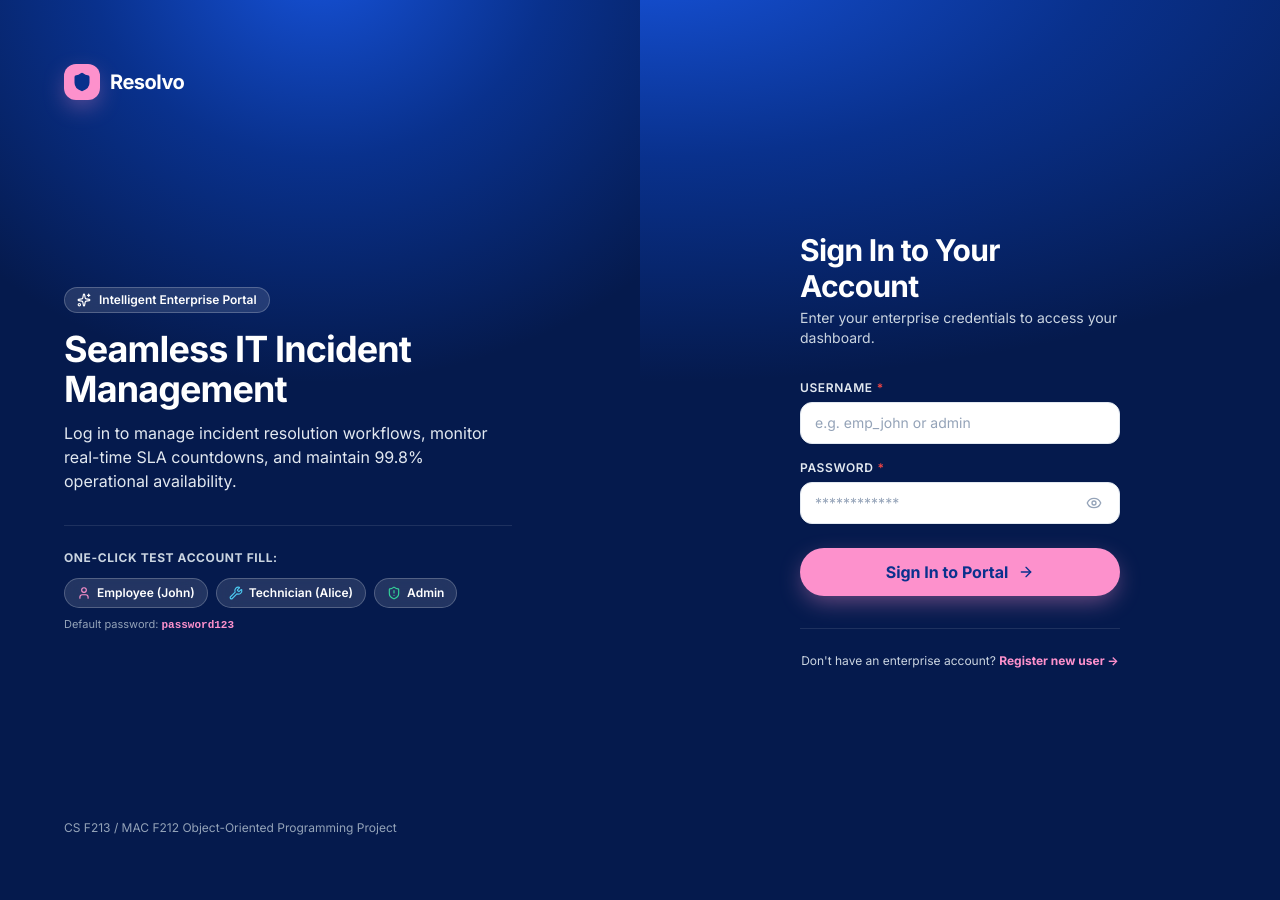
LoginPage › quick-fill button populates credentials for employee
The image size is (1280, 900).
Click the button "Employee (John)": click(136, 593) [64,578,208,608]
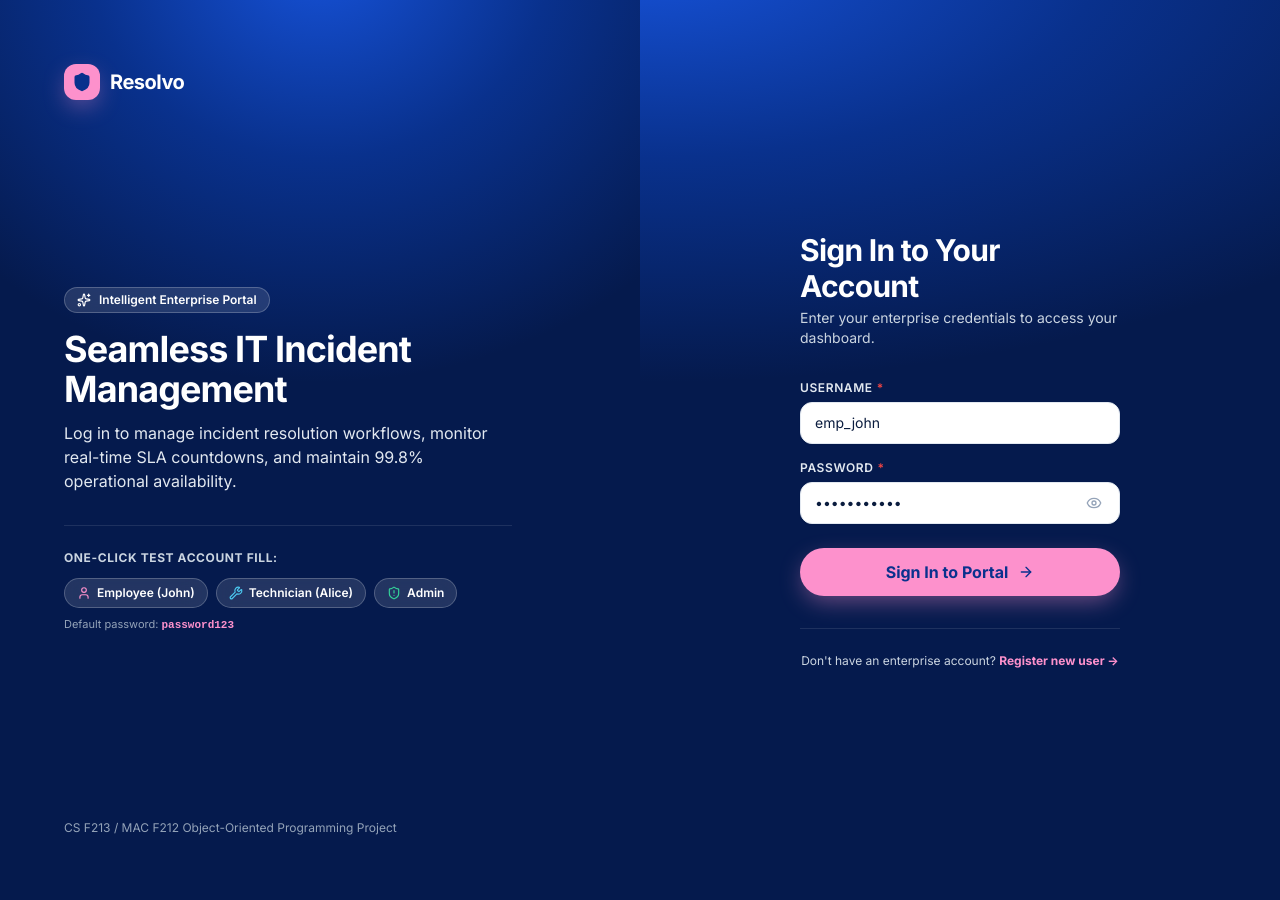
expect the field labelled "Username*" holds "emp_john": met, box [800,402,1120,444]
expect the password field with placeholder "************" holds "password123": met, box [800,482,1120,524]
